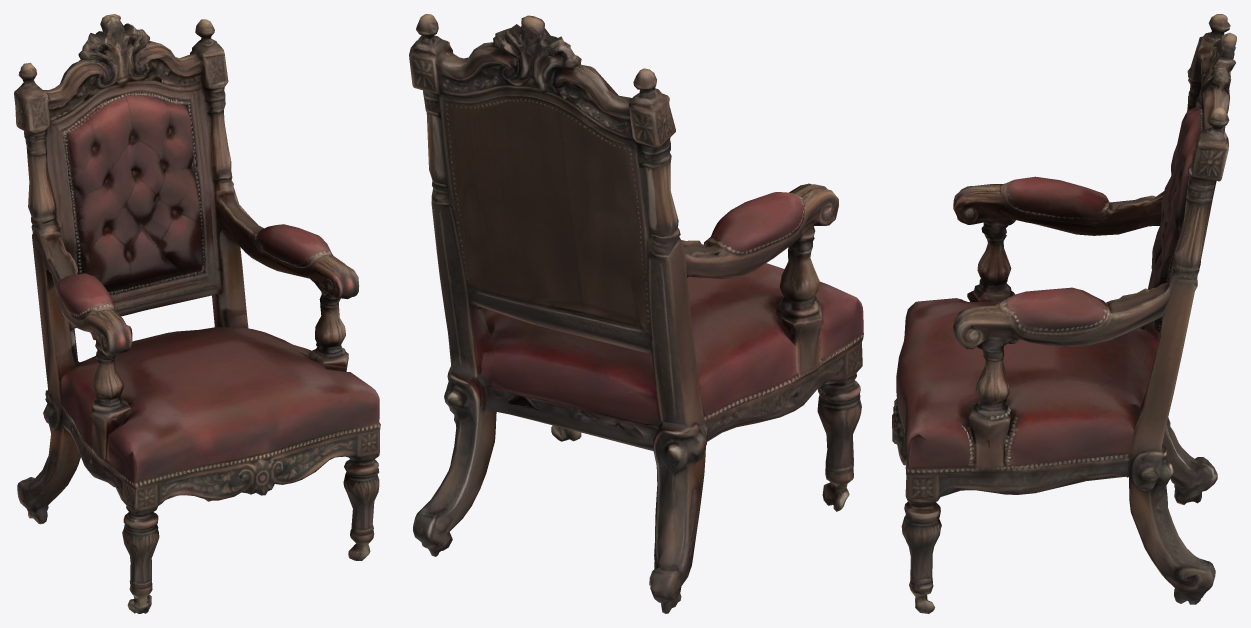
File: Meshy_AI_Regal_Carved_Leather__0703163248_texture.glb
The picture shows the model from 3 angles, left to right: view 1: azimuth 30°, elevation 25°; view 2: azimuth 150°, elevation 25°; view 3: azimuth 270°, elevation 25°; orthographic projection. The views are drawn at different scales.
Size of the model in its own units: 1.14 by 2 by 1.2.
1 material, 1 textured.
